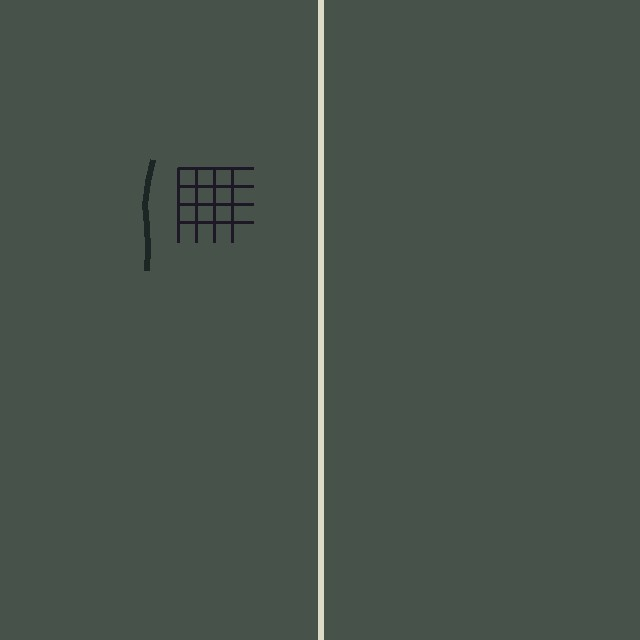alligator_crack: (178, 168, 253, 242)
longitudinal_crack: (148, 160, 302, 271)
